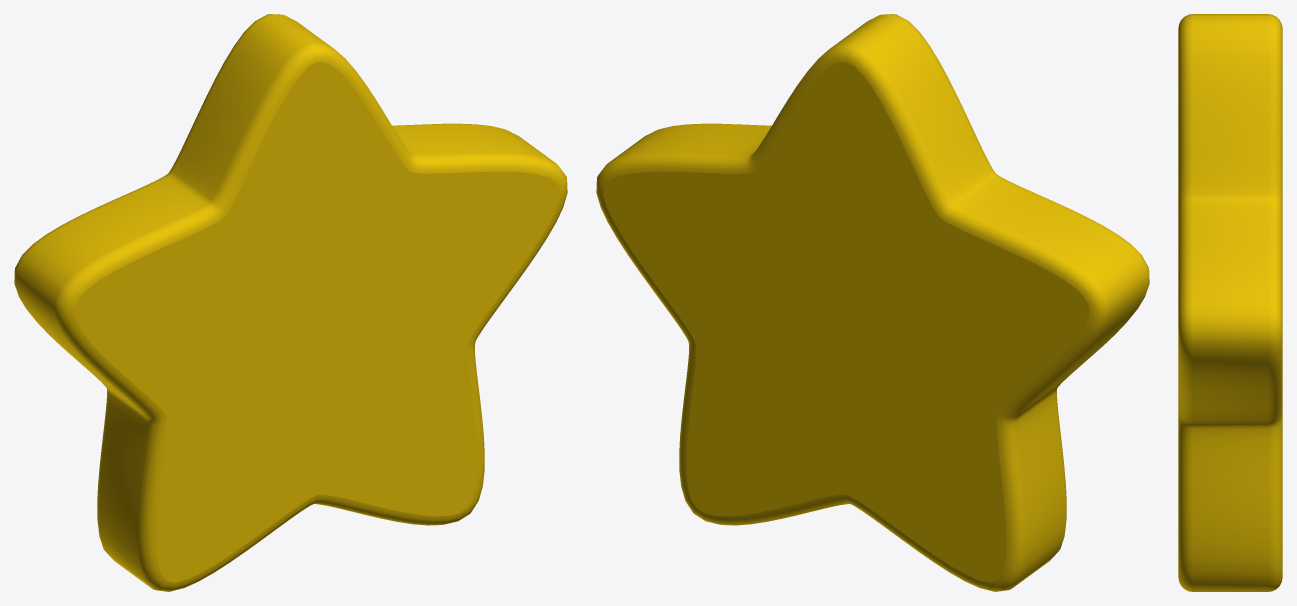
Rendered from star2 1.fbx.
The picture shows the model from 3 angles, left to right: view 1: azimuth 30°, elevation 25°; view 2: azimuth 150°, elevation 25°; view 3: azimuth 270°, elevation 25°; orthographic projection.
Visible parts, largest first — view 1: Circle; view 2: Circle; view 3: Circle.
Part boxes in pixels (bbox=[...]): Circle: bbox=[14, 14, 567, 591]; Circle: bbox=[596, 14, 1149, 591]; Circle: bbox=[1178, 14, 1282, 591].
Bounding box in the file's own units: 115 × 111 × 20.71.
